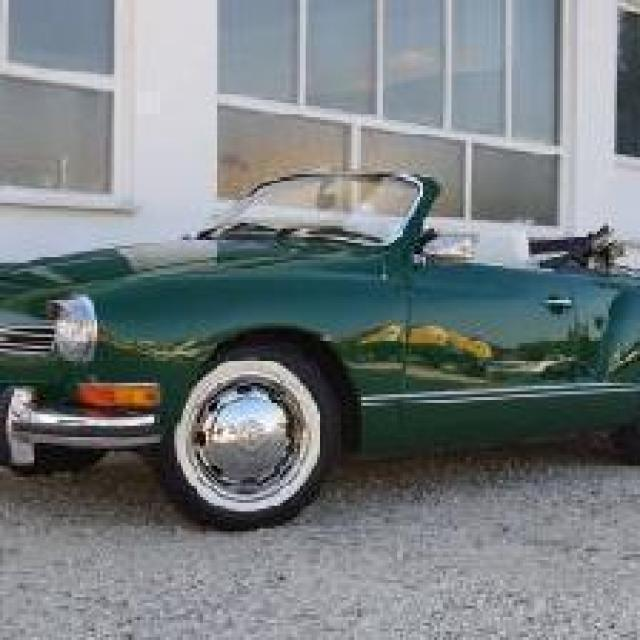damaged: (348, 322, 632, 398)
